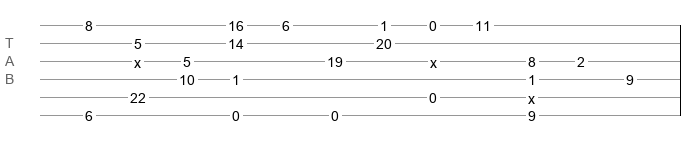0: (232, 108, 240, 118), (331, 108, 339, 118), (429, 90, 437, 100), (429, 18, 437, 28)
1: (232, 72, 240, 82), (380, 18, 388, 28), (528, 72, 536, 82)
10: (179, 72, 195, 82)
11: (475, 18, 491, 28)
14: (228, 36, 244, 46)
16: (228, 18, 244, 28)
19: (327, 54, 343, 64)
2: (577, 54, 585, 64)
20: (376, 36, 392, 46)
22: (130, 90, 146, 100)
5: (134, 36, 142, 46), (183, 54, 191, 64)
6: (85, 108, 93, 118), (282, 18, 290, 28)
8: (85, 18, 93, 28), (528, 54, 536, 64)
9: (528, 108, 536, 118), (626, 72, 634, 82)
x: (134, 55, 141, 63), (430, 55, 437, 63), (528, 91, 535, 99)
